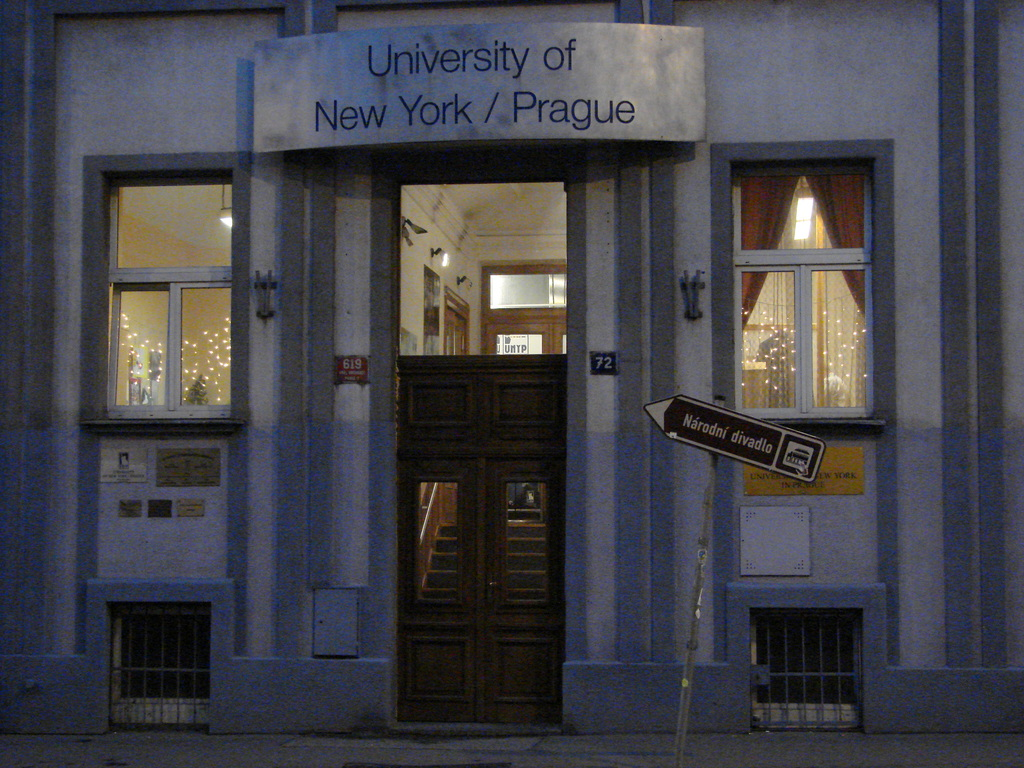Door: (398, 456, 492, 721), (488, 457, 566, 724)
